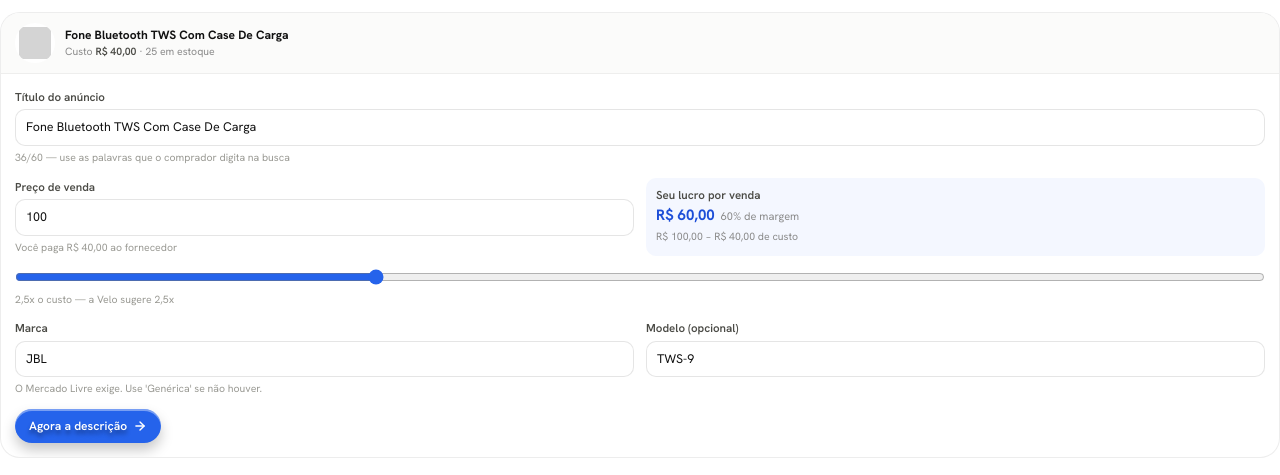
Scenario: AtlasPublishComposer › não deixa avançar com preço abaixo do custo
This screenshot has width=1280, height=475.
Expected: the field showing "Fone Bluetooth TWS" is shown, [15,109,1265,146]
Replace the text in the field showing "100" with "30": (324, 217) [15,199,634,236]
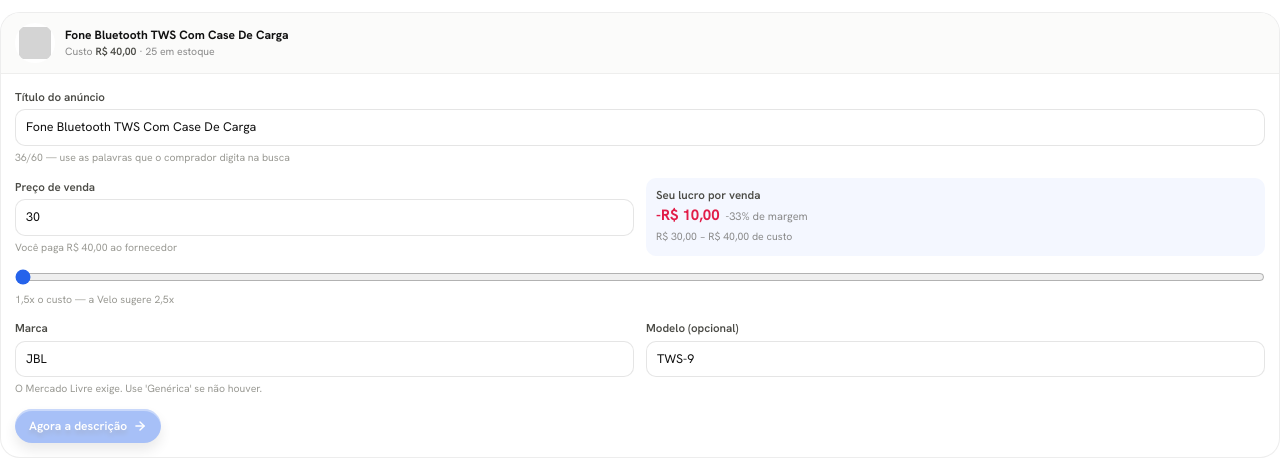
Expected: the button "Agora a descrição" is disabled, [15,409,161,443]
